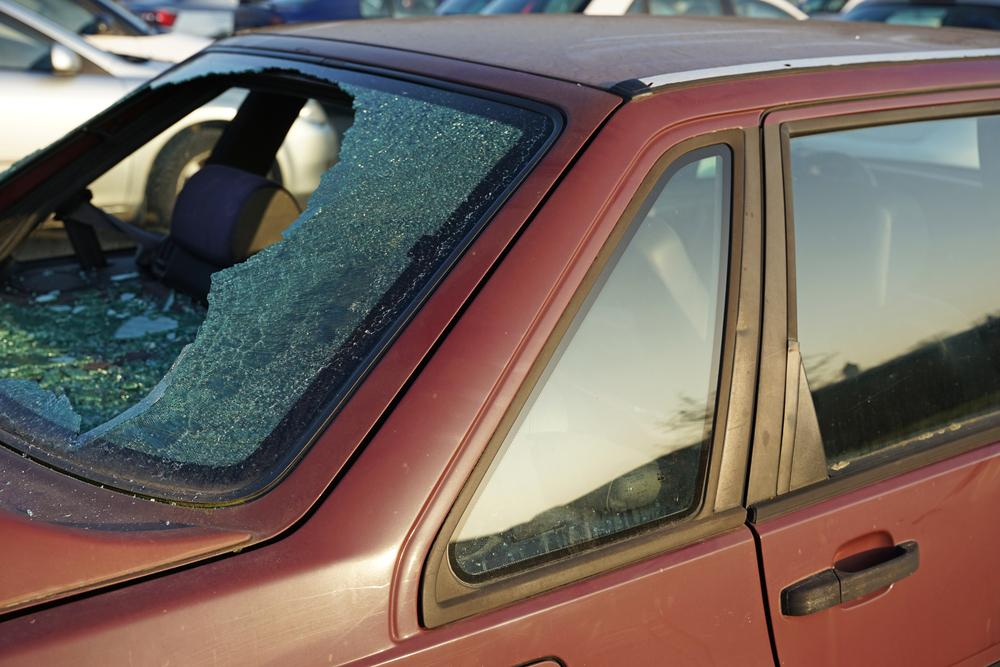glass shatter: (0, 49, 553, 496)
